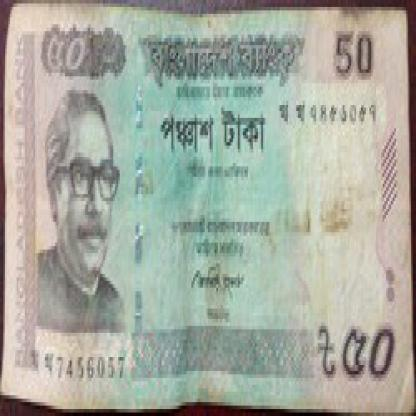Fifty taka: (314, 315, 398, 385), (35, 27, 101, 80)
